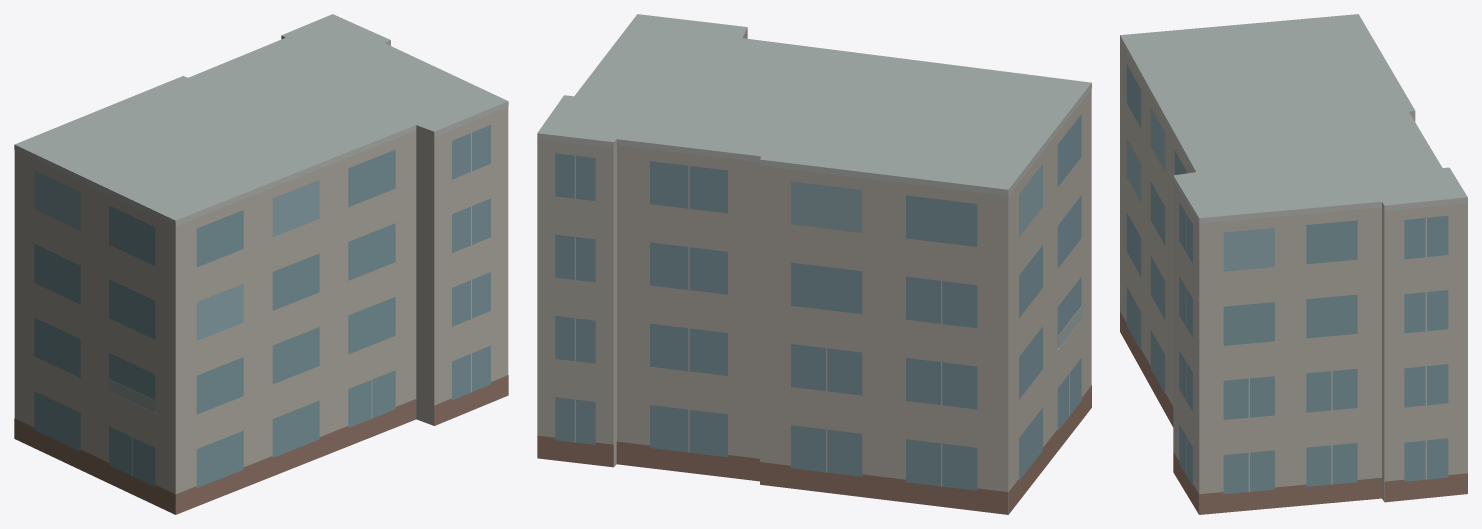
File: survey-upis-32474925.glb
3 views of the same model, side by side, from view 1: azimuth 30°, elevation 25°; view 2: azimuth 150°, elevation 25°; view 3: azimuth 270°, elevation 25° (orthographic). The views are drawn at different scales.
Parts seen in each view (by area): view 1: survey-upis-32474925.tmp; view 2: survey-upis-32474925.tmp; view 3: survey-upis-32474925.tmp.
Part boxes in pixels (<box>): survey-upis-32474925.tmp: <box>14,14,508,514</box>; survey-upis-32474925.tmp: <box>537,14,1091,514</box>; survey-upis-32474925.tmp: <box>1120,14,1467,514</box>.
Bounding box in the file's own units: 19.05 × 12.9 × 13.71.
